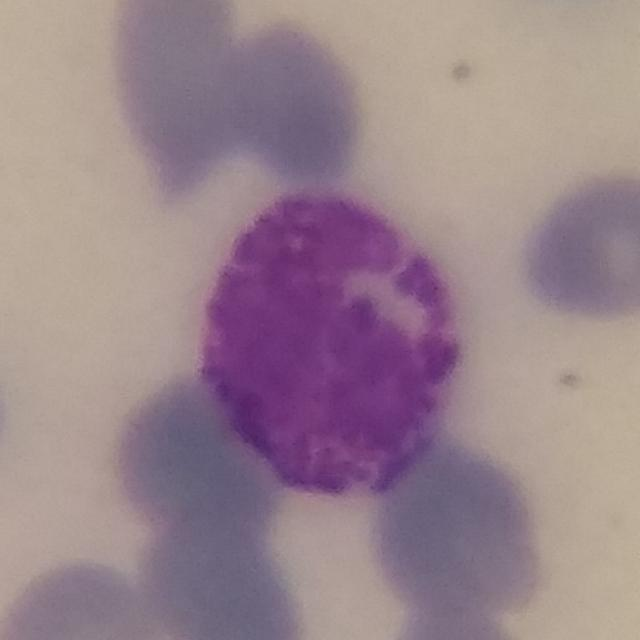Basophil: (183, 184, 485, 498)
RBC: (360, 435, 560, 626), (109, 0, 261, 194), (118, 372, 289, 543), (214, 16, 370, 188), (137, 520, 320, 640), (510, 165, 640, 328), (0, 553, 166, 640), (384, 594, 530, 640), (0, 337, 16, 488)
